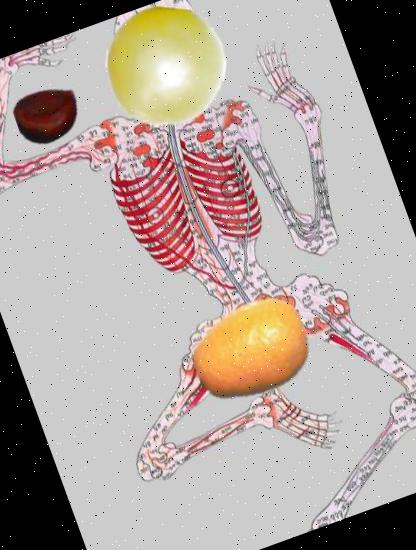Chestnut: (7, 74, 90, 157)
Grape: (88, 0, 242, 144)
Kumquats: (175, 272, 328, 426)
